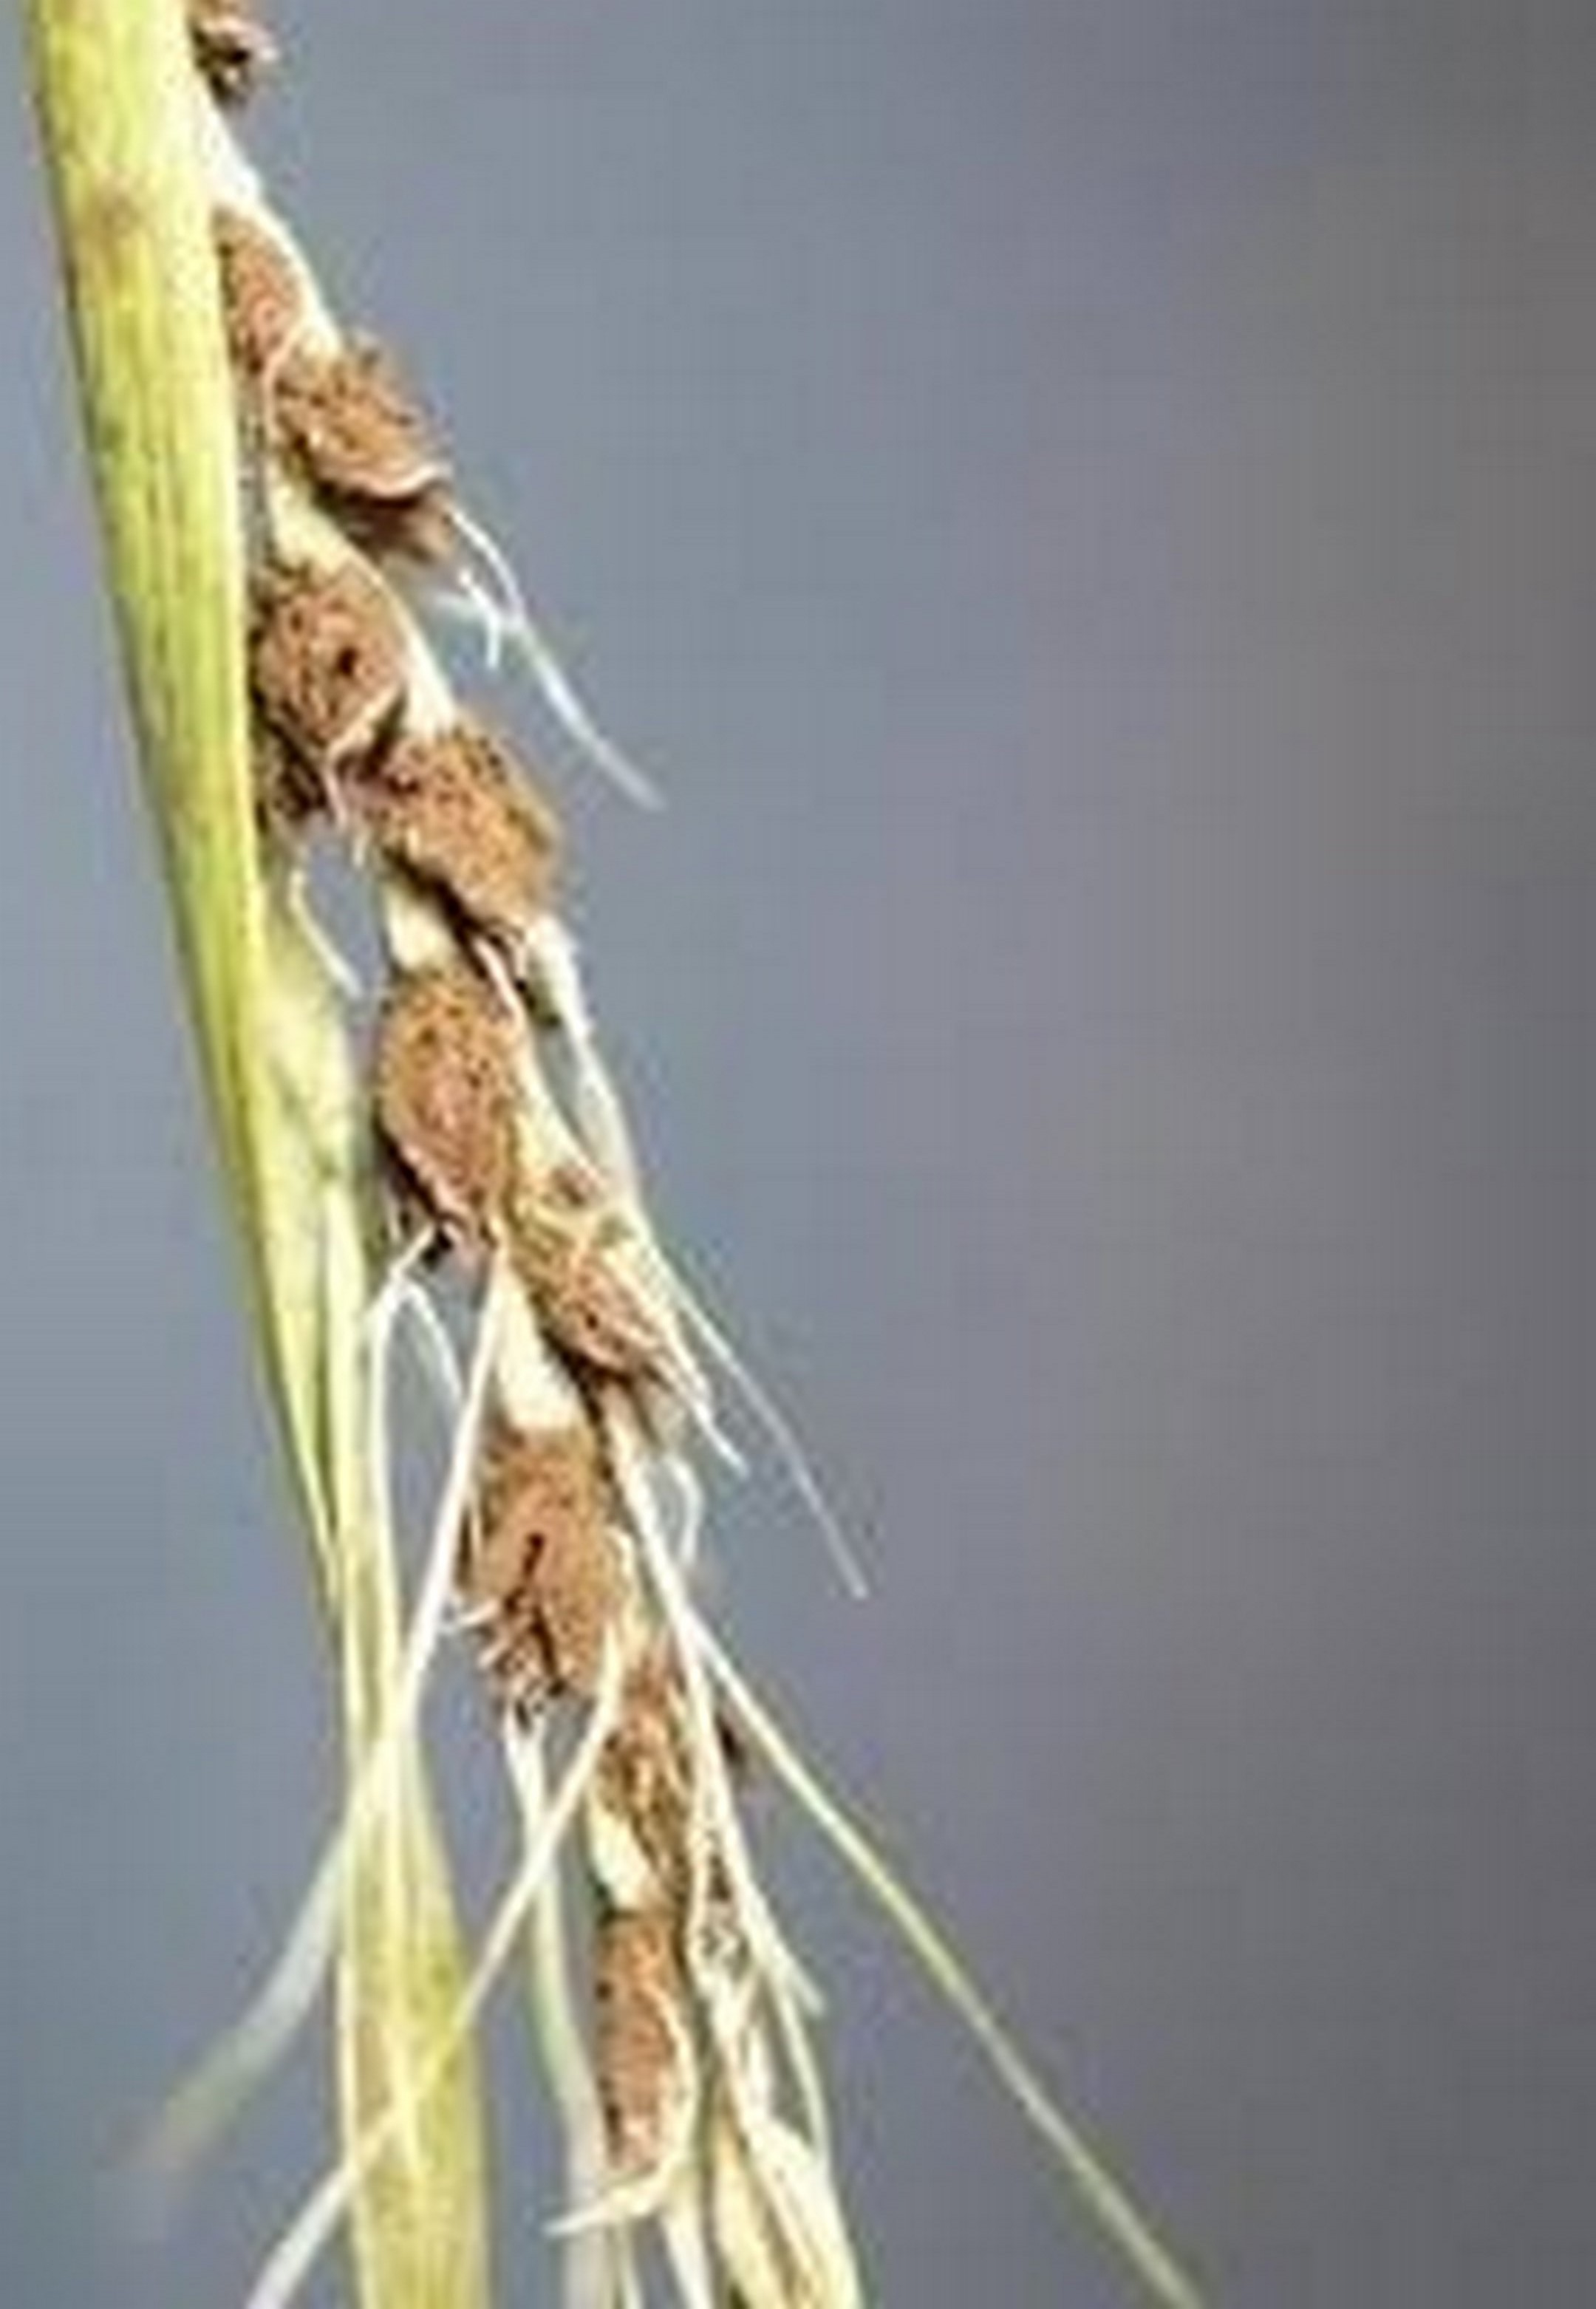Wheat Loose Smut: (207, 263, 816, 2070)
